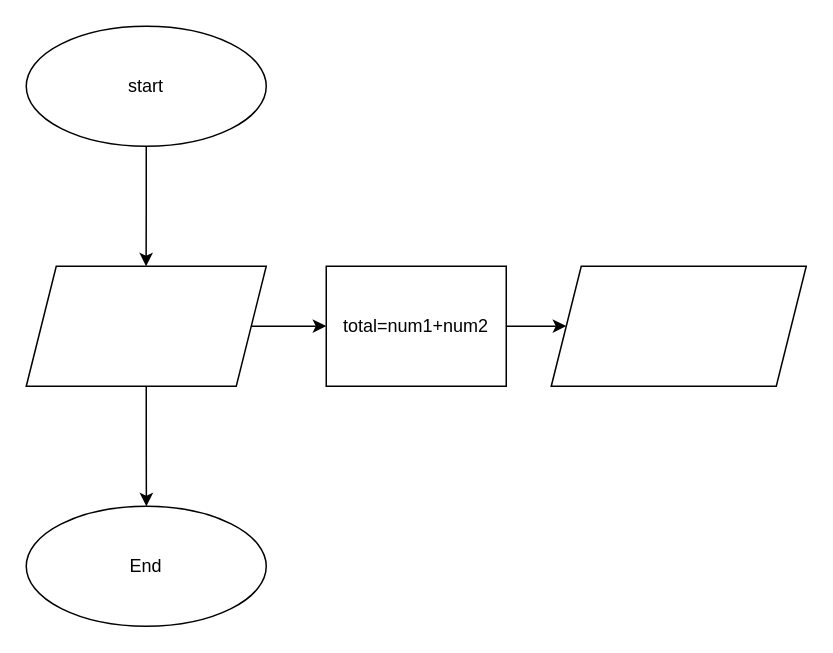
This 833x653 diagram has some shape labels left out. The shapes that lost their labels are listed below. From the top down, each one's centre as x and y in pixels, then its label:
At (145,325): "Nhập vào num1,num2".
At (678,325): "Hiển thị tổng ra màn hình".
